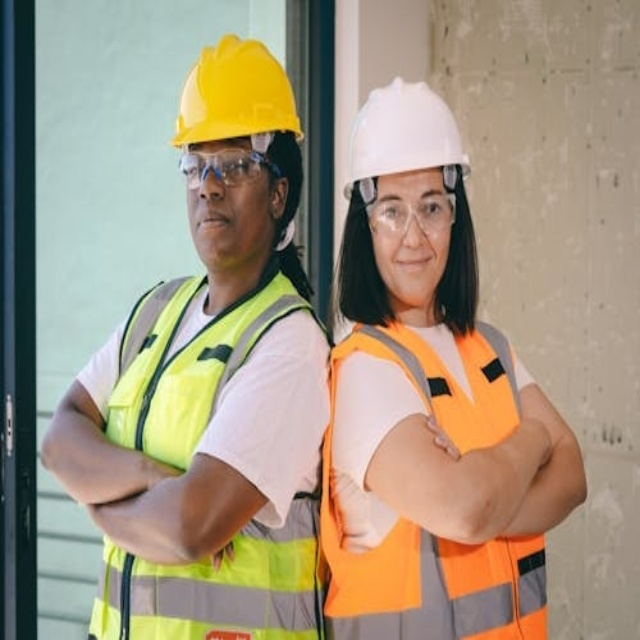Gafas: (175, 147, 279, 188), (365, 191, 457, 232)
Sin_mascara: (389, 249, 439, 292), (192, 208, 229, 253)
